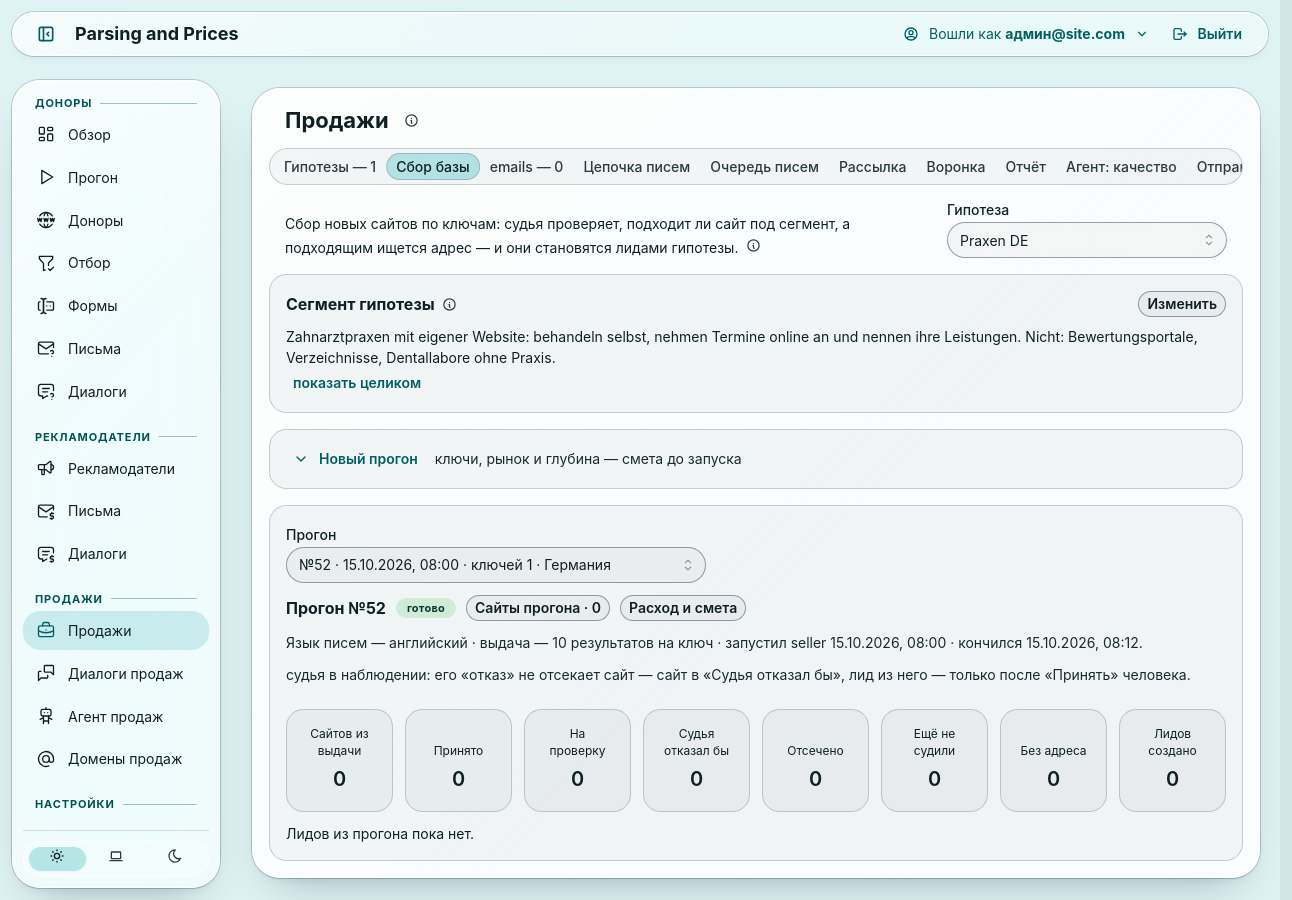
it: сбор базы компактно: форма свёрнута, описание — три строки › описание не помещается в три строки — «показать целиком» и «свернуть»
This screenshot has width=1292, height=900.
Expected: the heading "Сегмент гипотезы" is shown, [286,292,435,316]
Step 1. Click the button "показать целиком" → (357, 383), box [286,370,428,396]
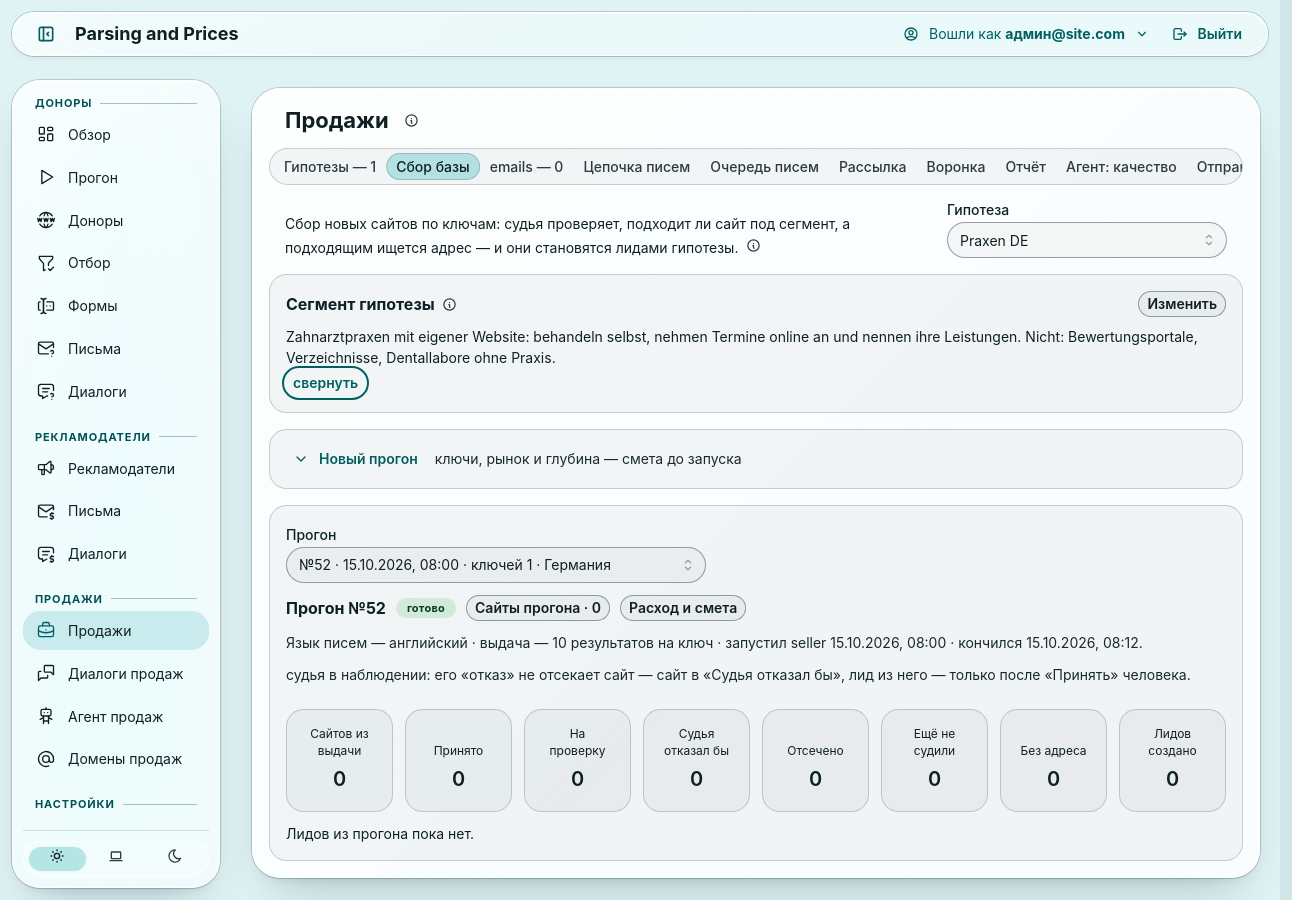
Expected: the button "Изменить" is shown, [1138,291,1226,317]
Expected: the button "свернуть" is expanded, [286,370,365,396]
